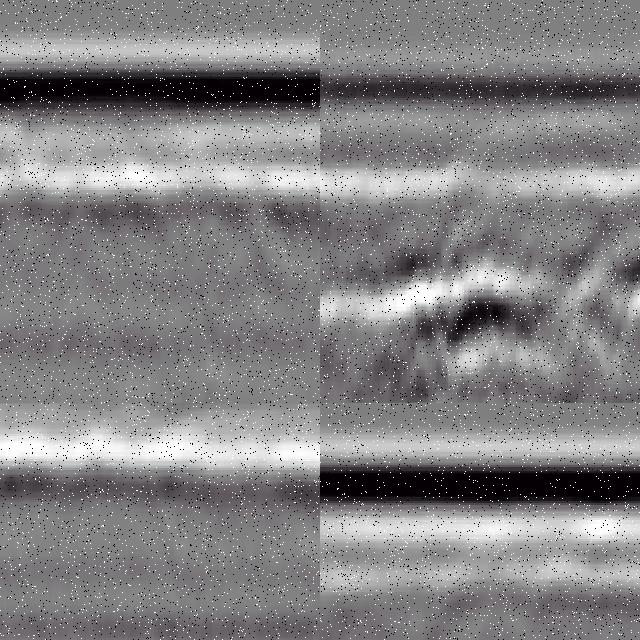loose: (372, 231, 579, 404)
